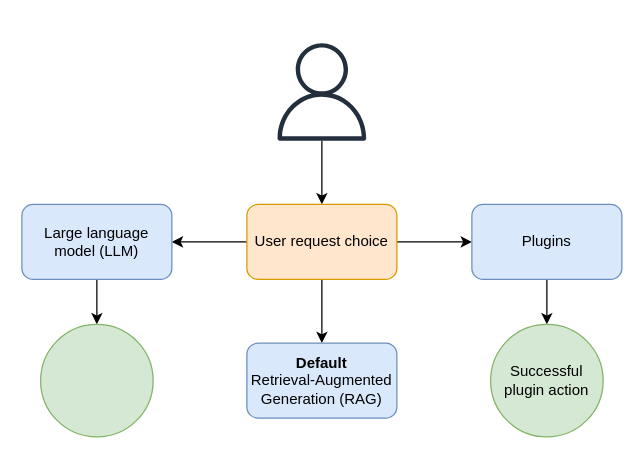
Image size: 644x459. Some labels were removed from this diagram. Each missing label, with the centre of its shape:
"Query response (LLM knowledge)" goes at (96,380).
"User query to Amazon Q Business" goes at (321,91).
